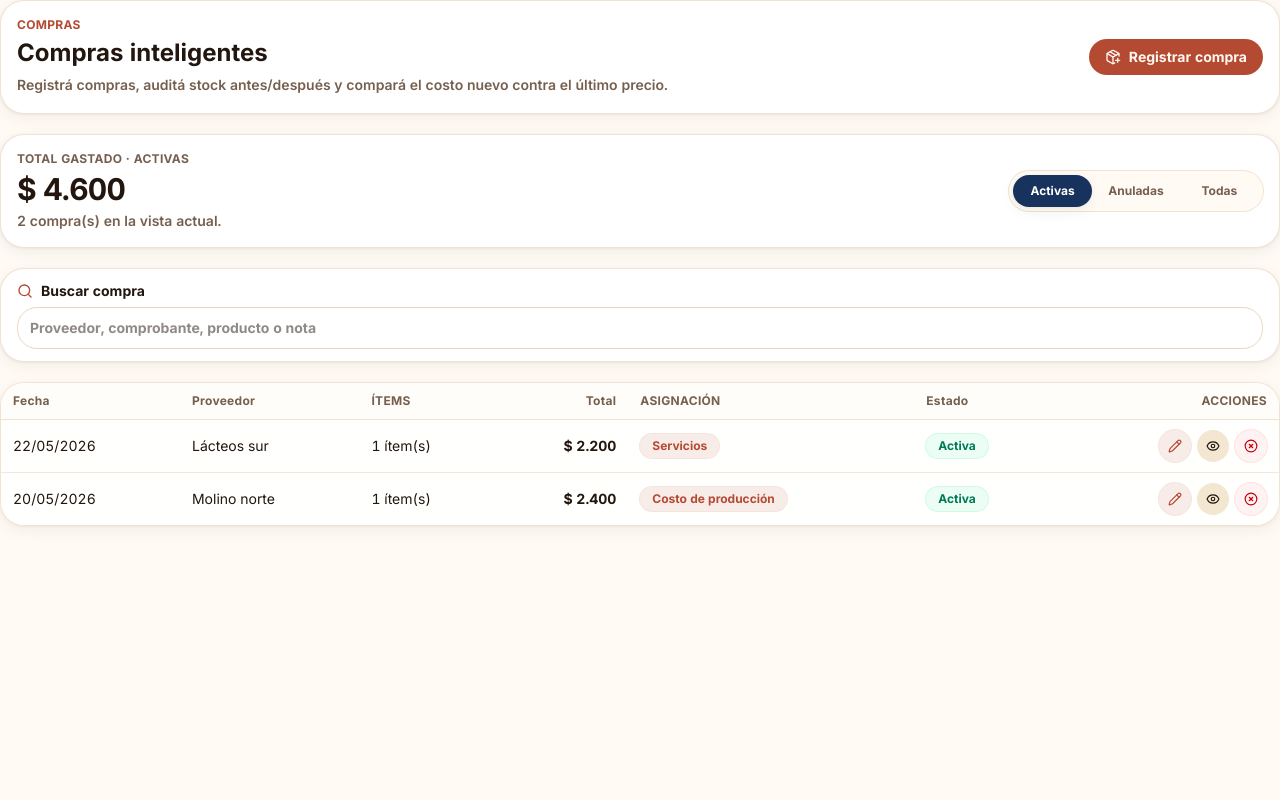
Test: FinancePurchases › keeps purchase cancel behavior available from the table
Click the button named "anular compra molino norte": (1251, 499) [1235,483,1267,515]
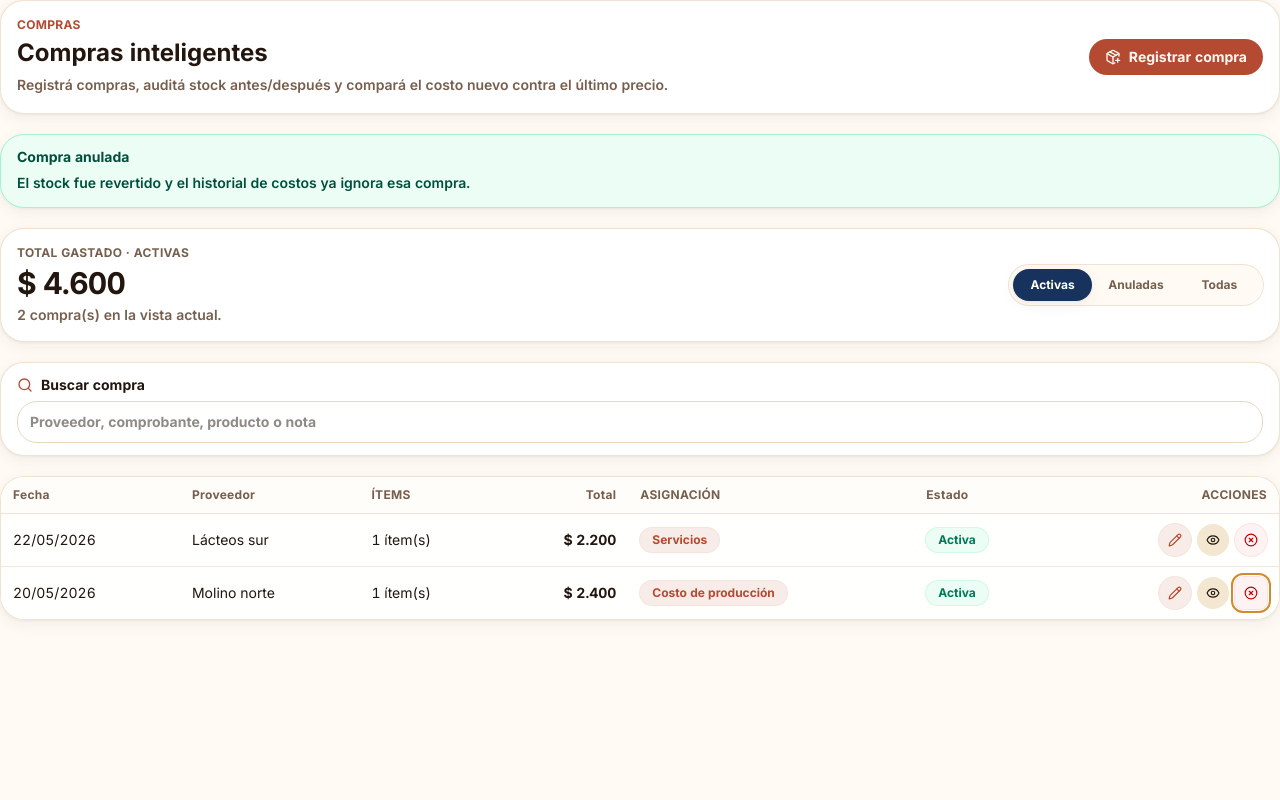
Now the text "Compra anulada" is shown, box [17,148,129,165]
